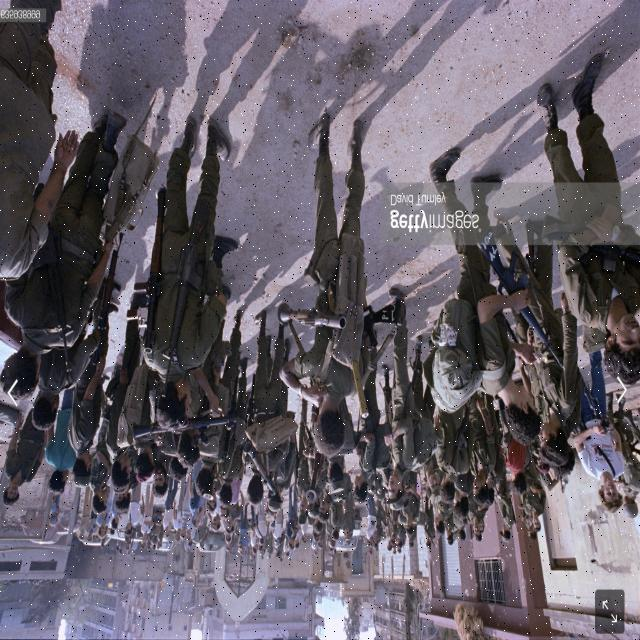bazooka: (130, 410, 249, 453), (275, 300, 350, 334)
